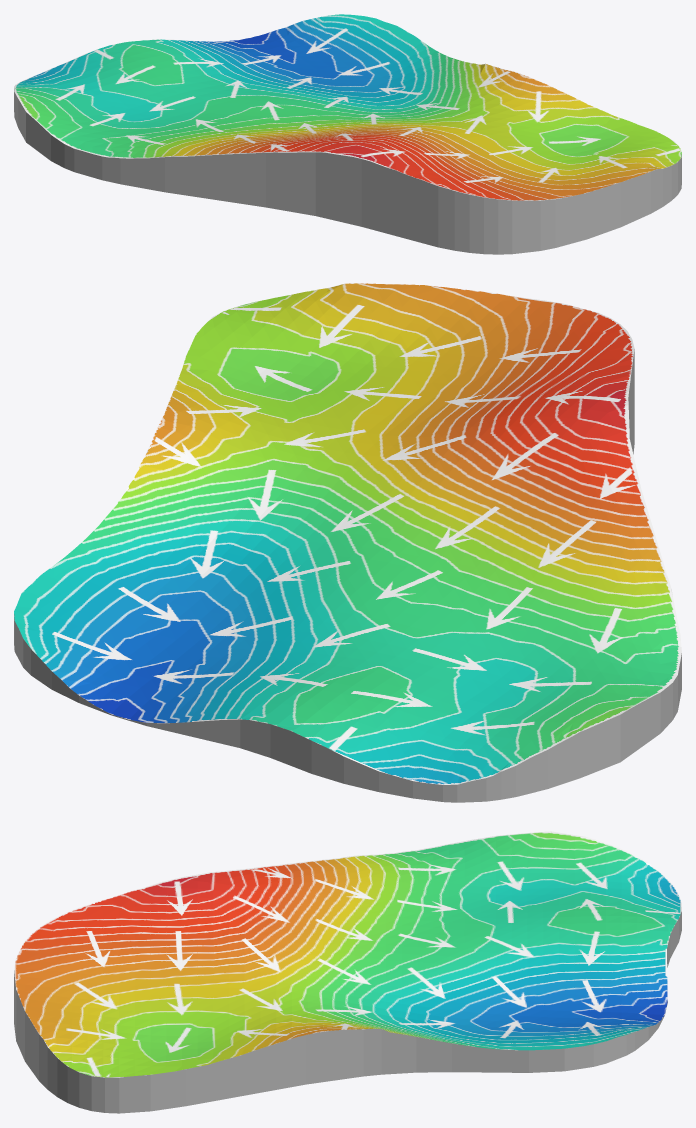
3 renders of one model, top to bottom at view 1: azimuth 30°, elevation 25°; view 2: azimuth 150°, elevation 25°; view 3: azimuth 270°, elevation 25°, orthographic. The views are drawn at different scales.
Bounding box in the file's own units: 3.55 × 0.5064 × 4.04.
Materials: 2 (1 with a texture image).
